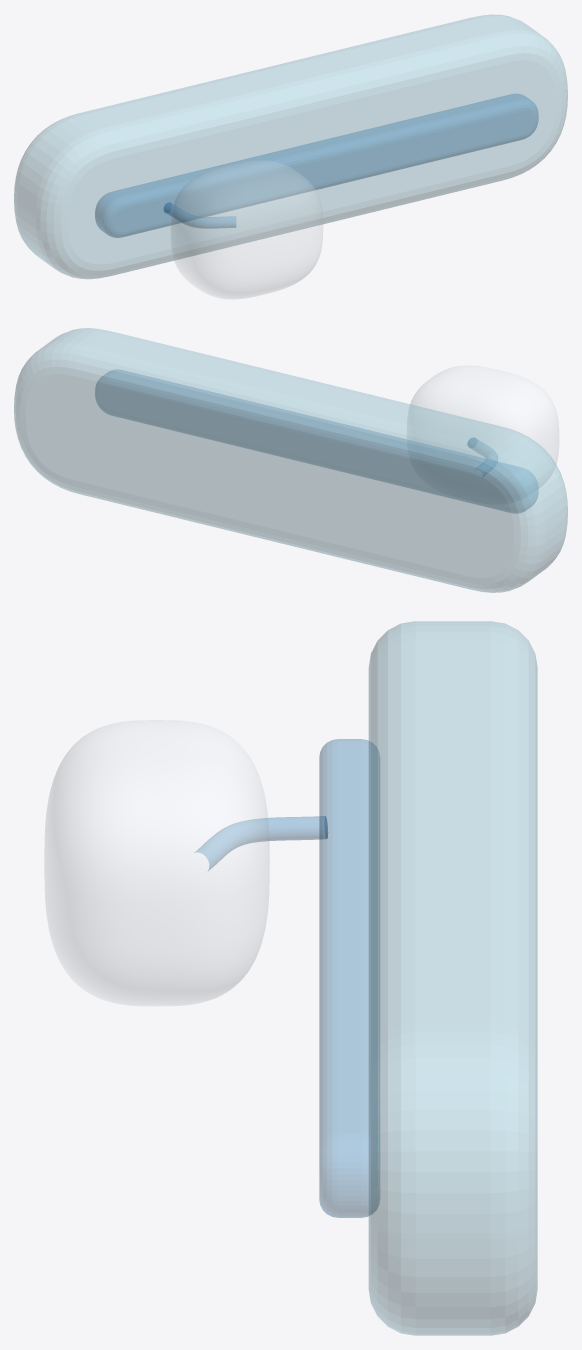
3 renders of one model, top to bottom at view 1: azimuth 30°, elevation 25°; view 2: azimuth 150°, elevation 25°; view 3: azimuth 270°, elevation 25°, orthographic. The views are drawn at different scales.
Parts seen in each view (by area): view 1: cradle, channel, thumb-0, suspension-0; view 2: cradle, channel, thumb-0, suspension-0; view 3: cradle, thumb-0, channel, suspension-0.
Boxes of the visible parts, left/top/right/bottom form: cradle: left=14, top=14, right=567, bottom=278; channel: left=95, top=94, right=538, bottom=237; thumb-0: left=171, top=160, right=322, bottom=299; suspension-0: left=164, top=202, right=235, bottom=228; cradle: left=14, top=328, right=567, bottom=592; channel: left=95, top=369, right=538, bottom=513; thumb-0: left=411, top=365, right=558, bottom=463; suspension-0: left=467, top=437, right=497, bottom=460; cradle: left=369, top=621, right=537, bottom=1335; thumb-0: left=44, top=720, right=269, bottom=1005; channel: left=319, top=739, right=379, bottom=1217; suspension-0: left=194, top=816, right=327, bottom=870.
Size of the model in its own units: 2.6 by 0.69 by 1.05.
